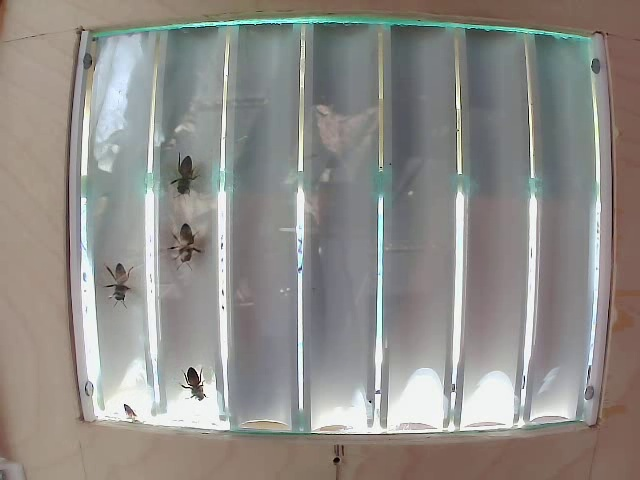bee: (166, 142, 205, 209), (162, 210, 203, 273), (100, 259, 134, 317), (178, 353, 207, 419)
